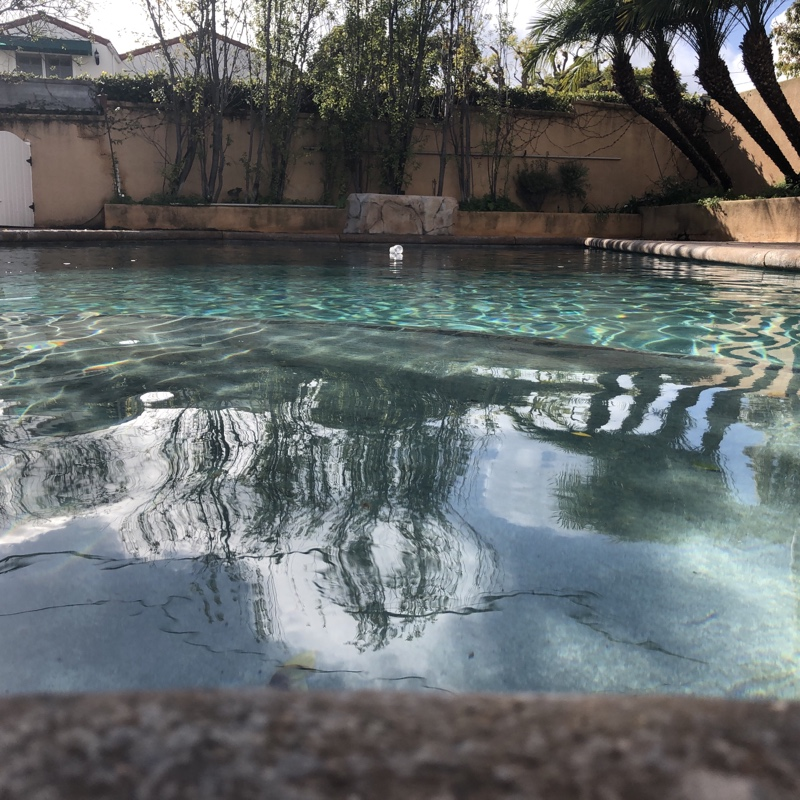Plastic Bottle: (388, 244, 403, 260)
